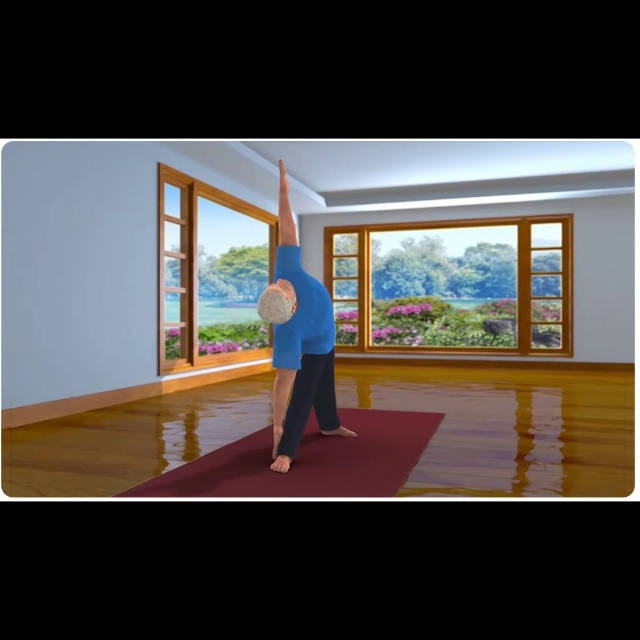Triangle_Pose: (254, 151, 366, 474)
